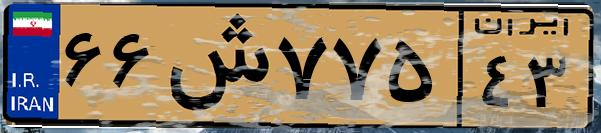3: (525, 38, 570, 115)
4: (475, 38, 525, 113)
5: (385, 28, 445, 110)
6: (57, 26, 110, 100), (110, 28, 158, 98)
7: (270, 28, 330, 110), (330, 28, 385, 110)
ش: (158, 12, 270, 120)
